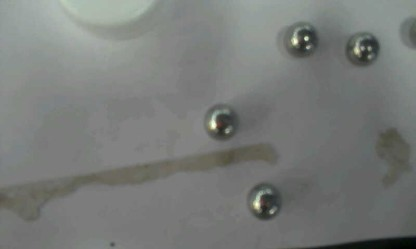ironball: (282, 20, 318, 57), (203, 102, 238, 140), (246, 182, 281, 220), (344, 31, 379, 66), (408, 15, 415, 48)
